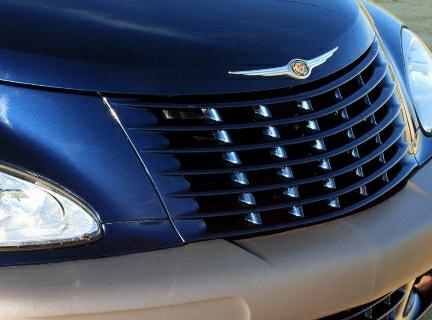雷克萨斯-ES: (4, 6, 428, 320)
